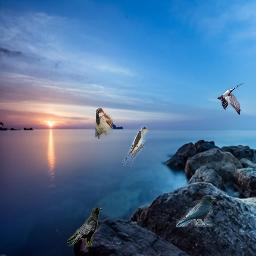Crow: (67, 207, 102, 247), (176, 195, 216, 227)
Cuckoo: (122, 126, 148, 166)
Sparrow: (95, 108, 113, 139)
Swallow: (217, 83, 244, 115)
